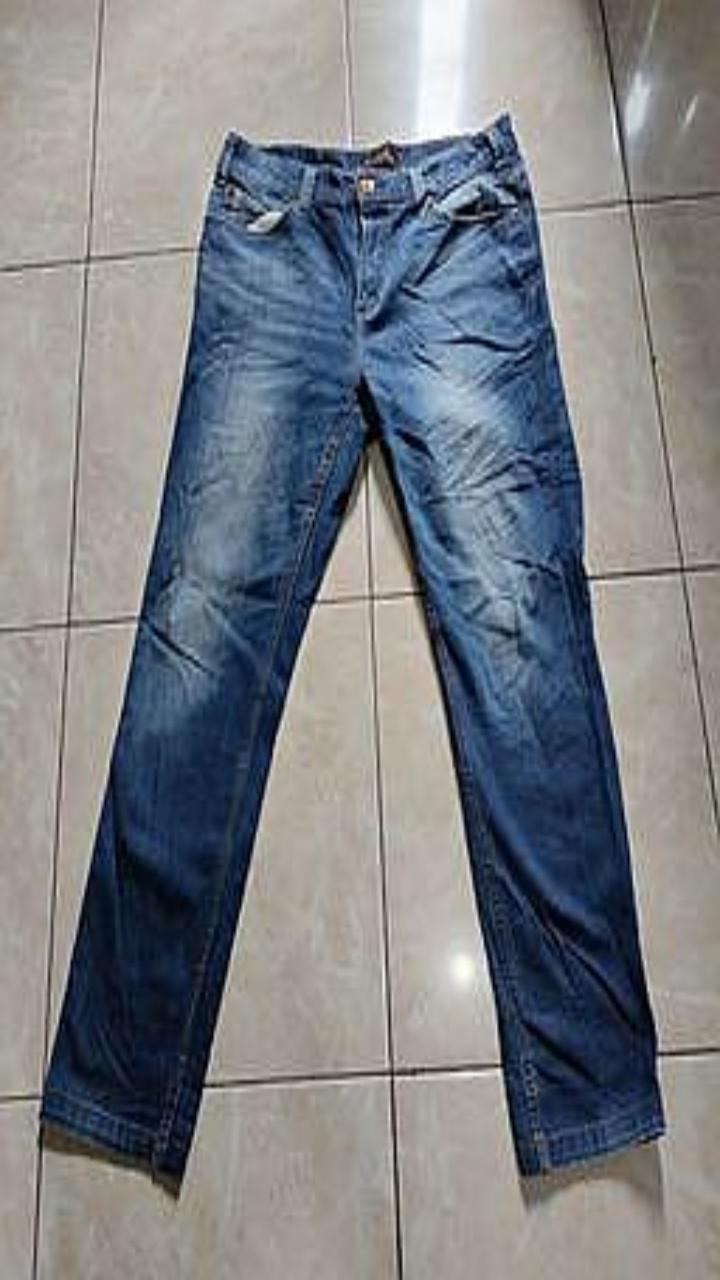Jeans: (40, 113, 664, 1185)
